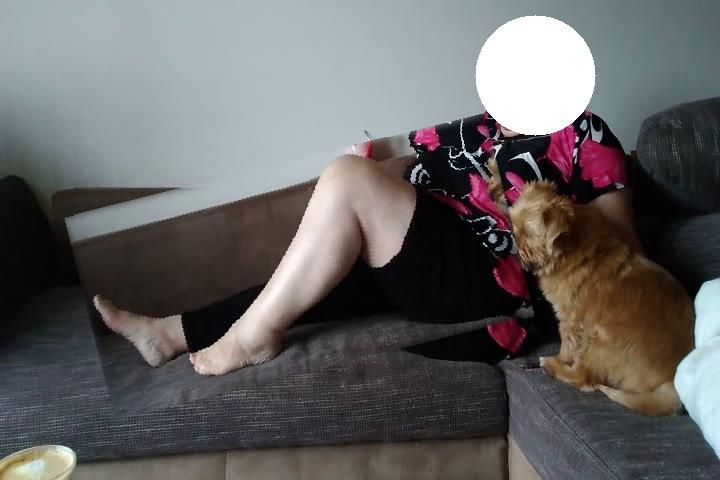lowerbody: (75, 139, 526, 397)
